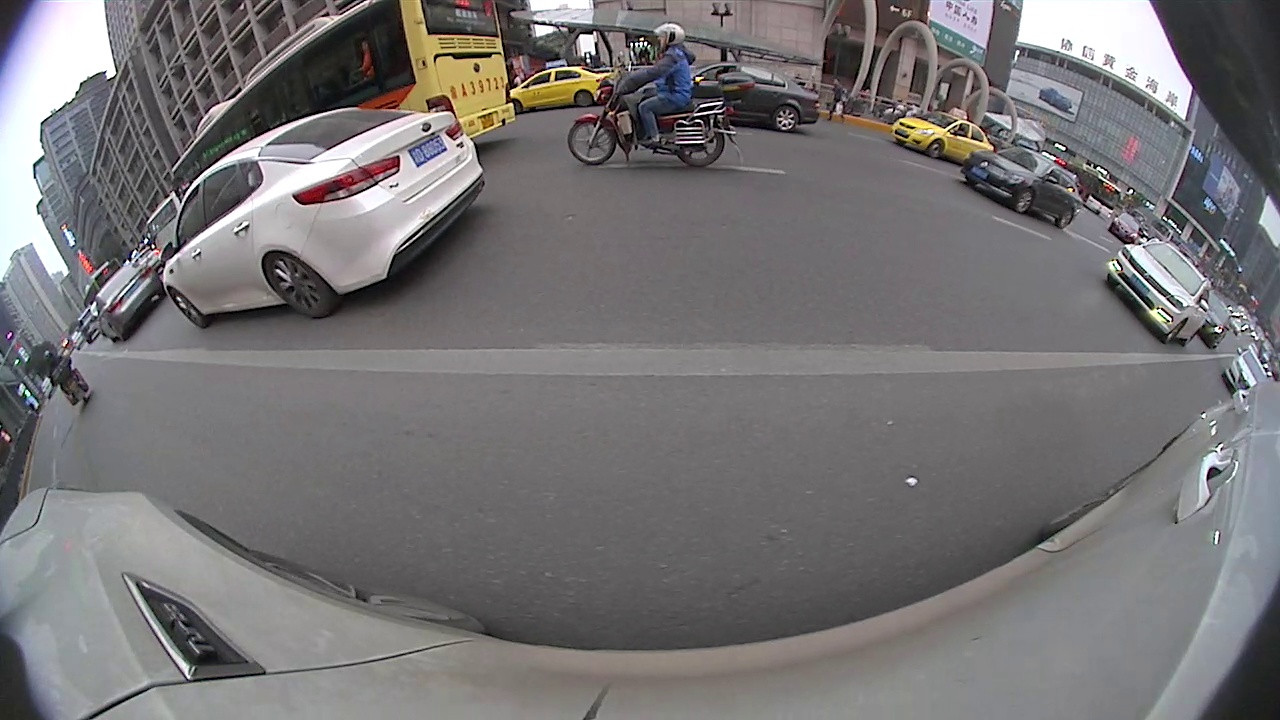bus: (168, 0, 514, 233)
car: (162, 102, 492, 333), (1098, 239, 1210, 350), (652, 67, 823, 136), (960, 148, 1083, 231), (88, 254, 168, 342), (510, 64, 622, 120), (884, 112, 996, 167), (1220, 341, 1270, 409), (1186, 293, 1237, 349)
front: (564, 115, 621, 167), (171, 290, 208, 330), (1014, 188, 1036, 214), (927, 140, 945, 159)
rear: (263, 251, 335, 320), (675, 129, 725, 168), (773, 105, 800, 133), (1052, 207, 1074, 232), (574, 89, 593, 109)
rider: (567, 20, 737, 172), (26, 334, 89, 414)
